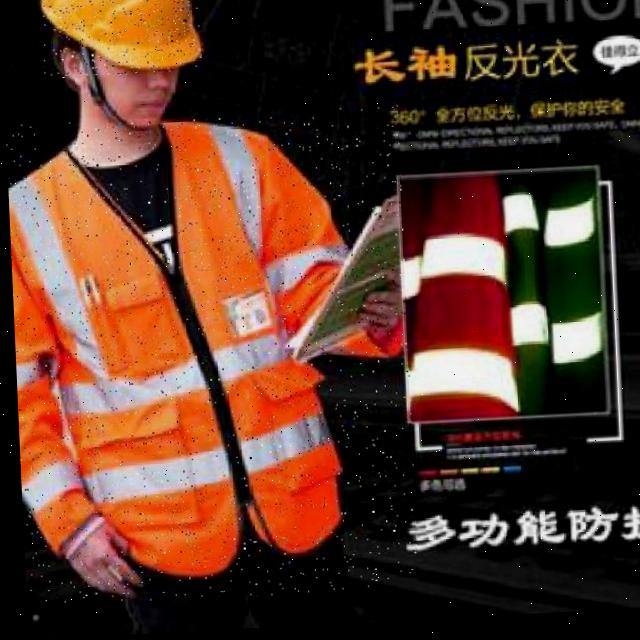Helmet: (38, 0, 203, 77)
No-Glove: (52, 510, 138, 604)
Safety-Vest: (4, 114, 369, 588)
